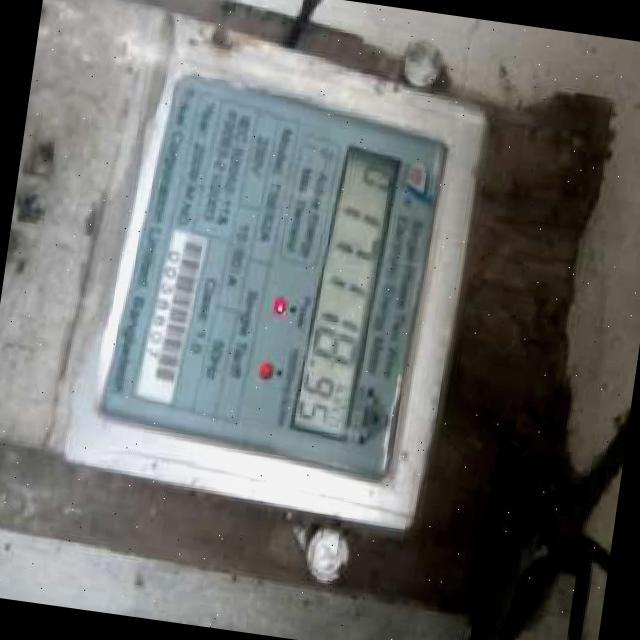LCD: (275, 133, 410, 458)
